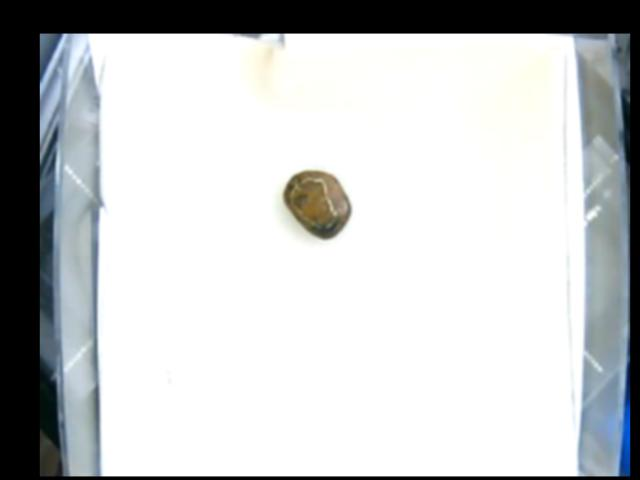Pebble: (283, 170, 353, 237)
